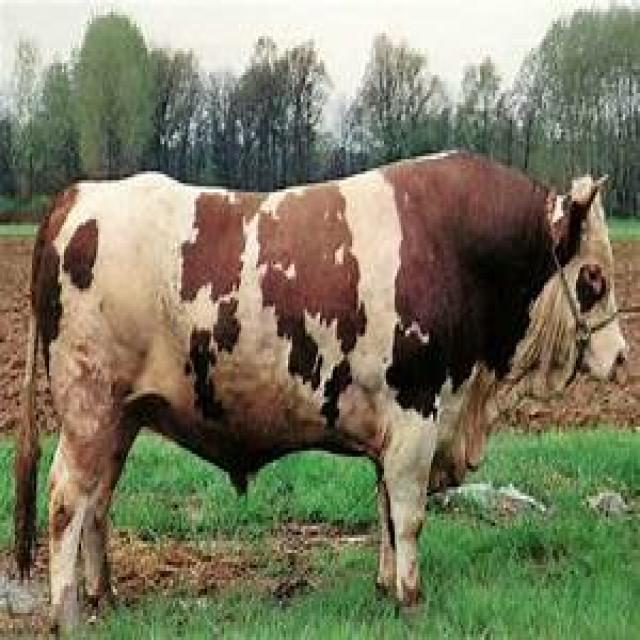cow: (15, 150, 629, 637)
